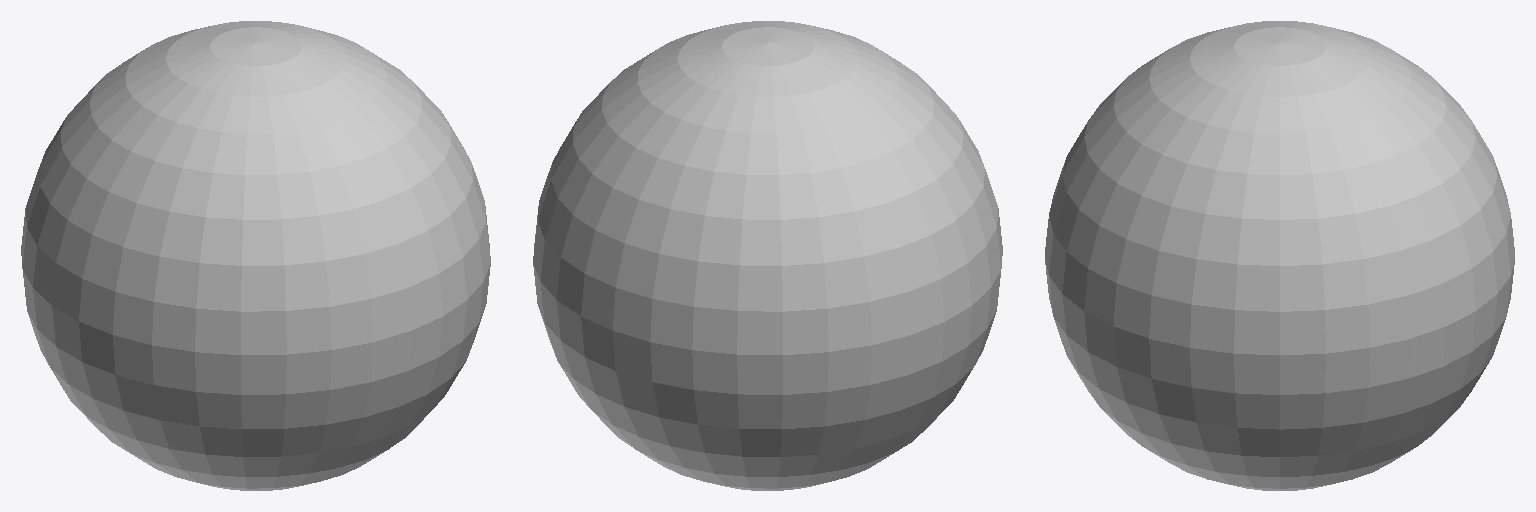
The model's file is tierra.obj.
The picture shows the model from 3 angles: view 1: azimuth 30°, elevation 25°; view 2: azimuth 150°, elevation 25°; view 3: azimuth 270°, elevation 25°; orthographic projection.
Visible parts, largest first — view 1: Sphere.003_Material.004_0; view 2: Sphere.003_Material.004_0; view 3: Sphere.003_Material.004_0.
Part boxes in pixels (left/top/right/bottom): Sphere.003_Material.004_0: left=21, top=21, right=490, bottom=490; Sphere.003_Material.004_0: left=533, top=21, right=1002, bottom=490; Sphere.003_Material.004_0: left=1045, top=21, right=1514, bottom=490.
Size of the model in its own units: 1.5 by 1.5 by 1.5.